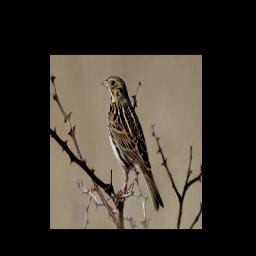Sparrow: (99, 72, 166, 216)
